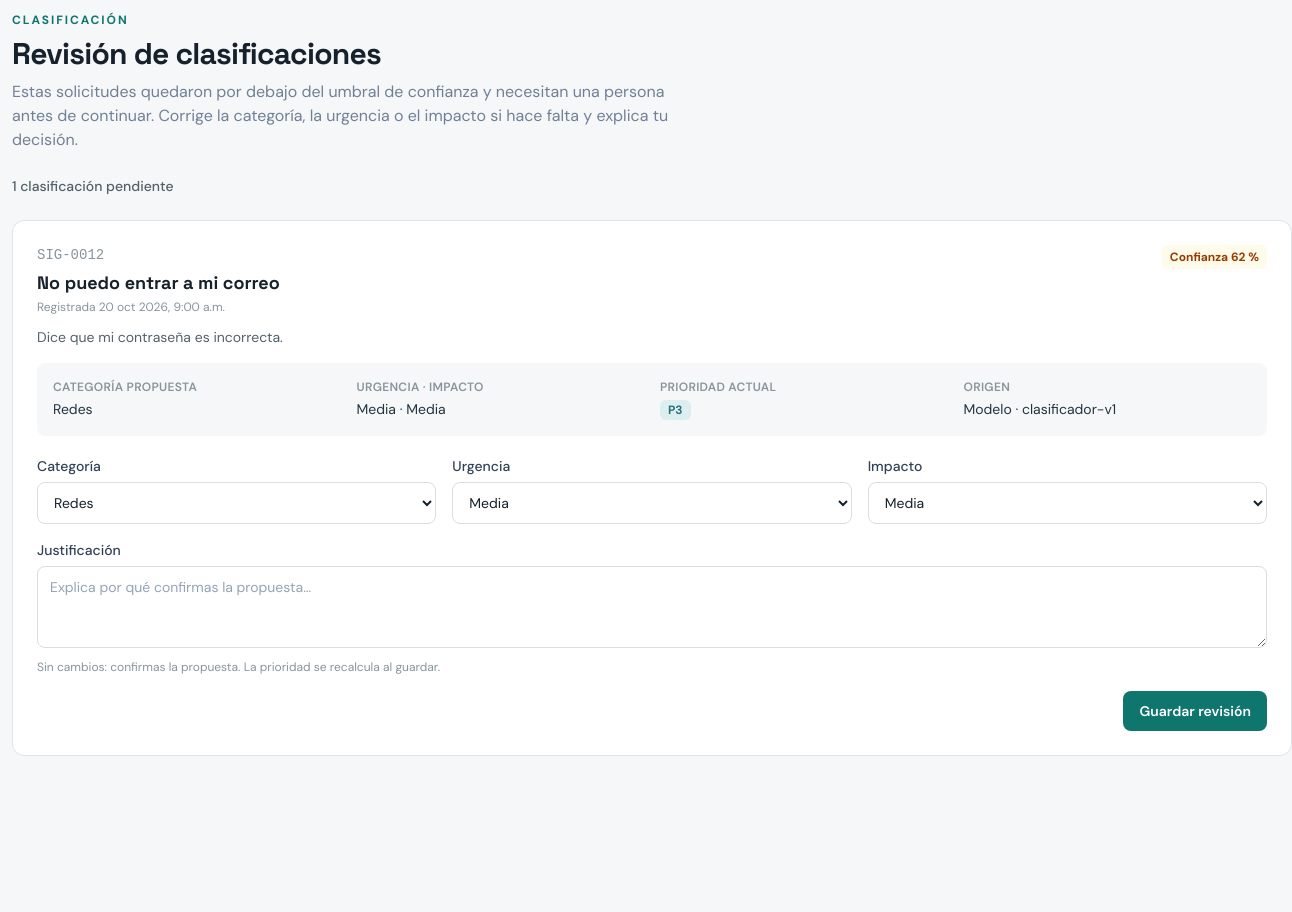
RevisionPage: revisión de clasificaciones (S4-15, HU-02.2) › guarda la corrección con su justificación y saca la solicitud de la cola
The width and height of the screenshot is (1292, 912).
Expected: the text "SIG-0012" is shown, 37,247 -> 104,263
Select "Cuentas y accesos" in the dropdown labelled "Categoría". click: point(237, 503)
box: 37,482 -> 436,524
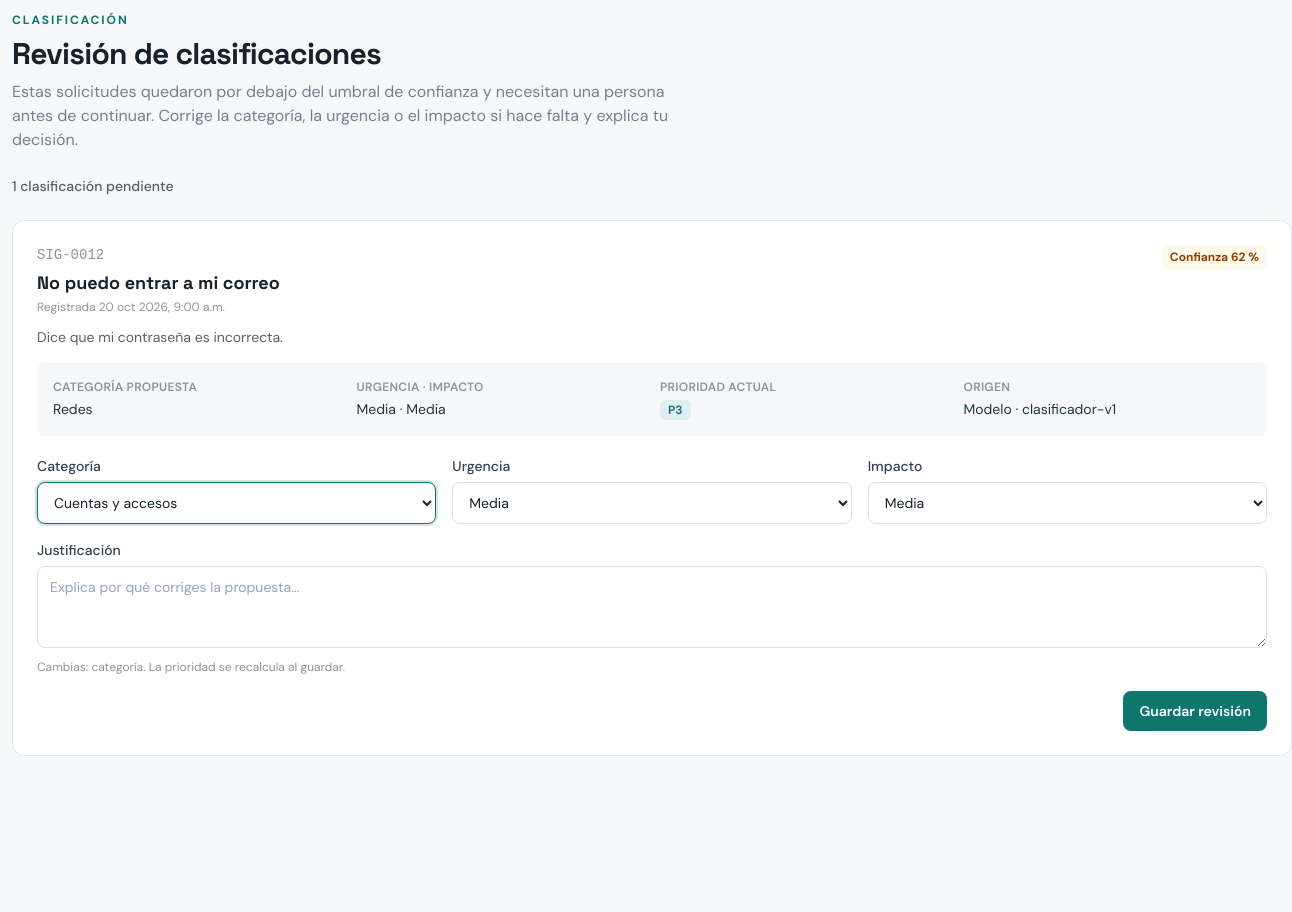
Select "Alta" in the dropdown labelled "Urgencia". click: point(652, 503)
box: 452,482 -> 852,524
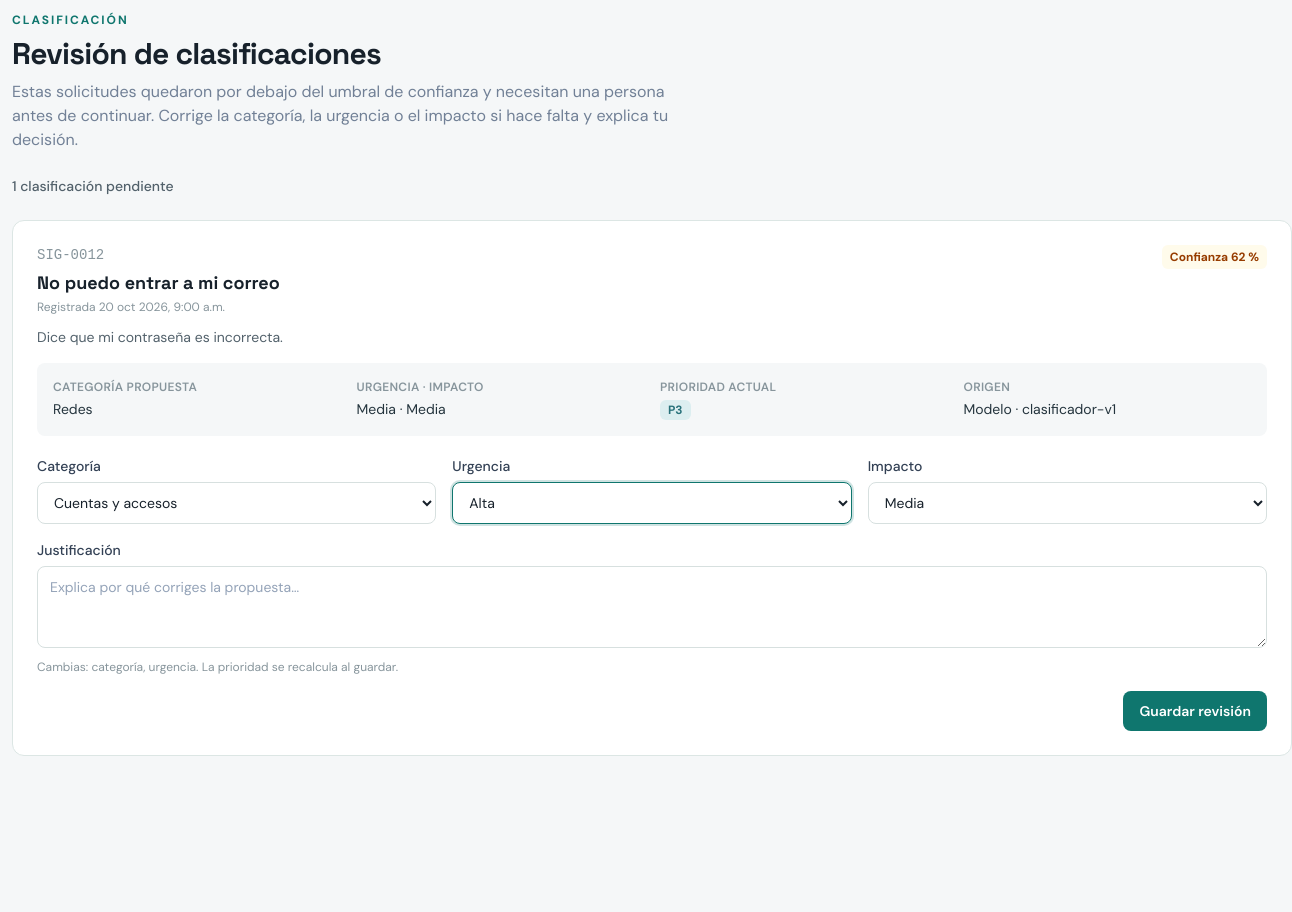
Type "  Es un problema de cuenta, no de red.  " into the text box labelled "Justificación". click: point(652, 607)
box: 37,566 -> 1267,648
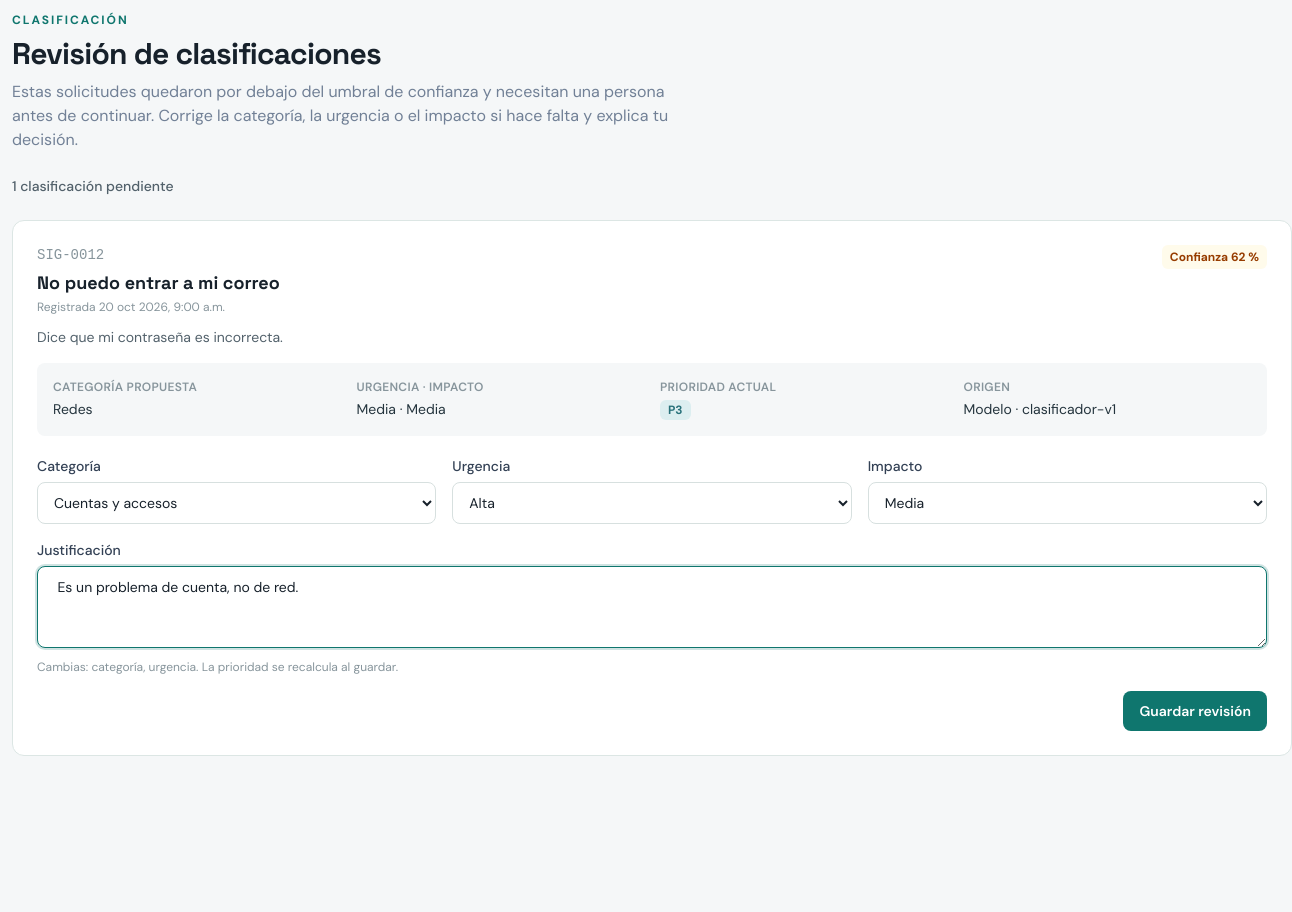
Click the button "Guardar revisión". click: point(1195, 711)
box: 1123,691 -> 1267,731
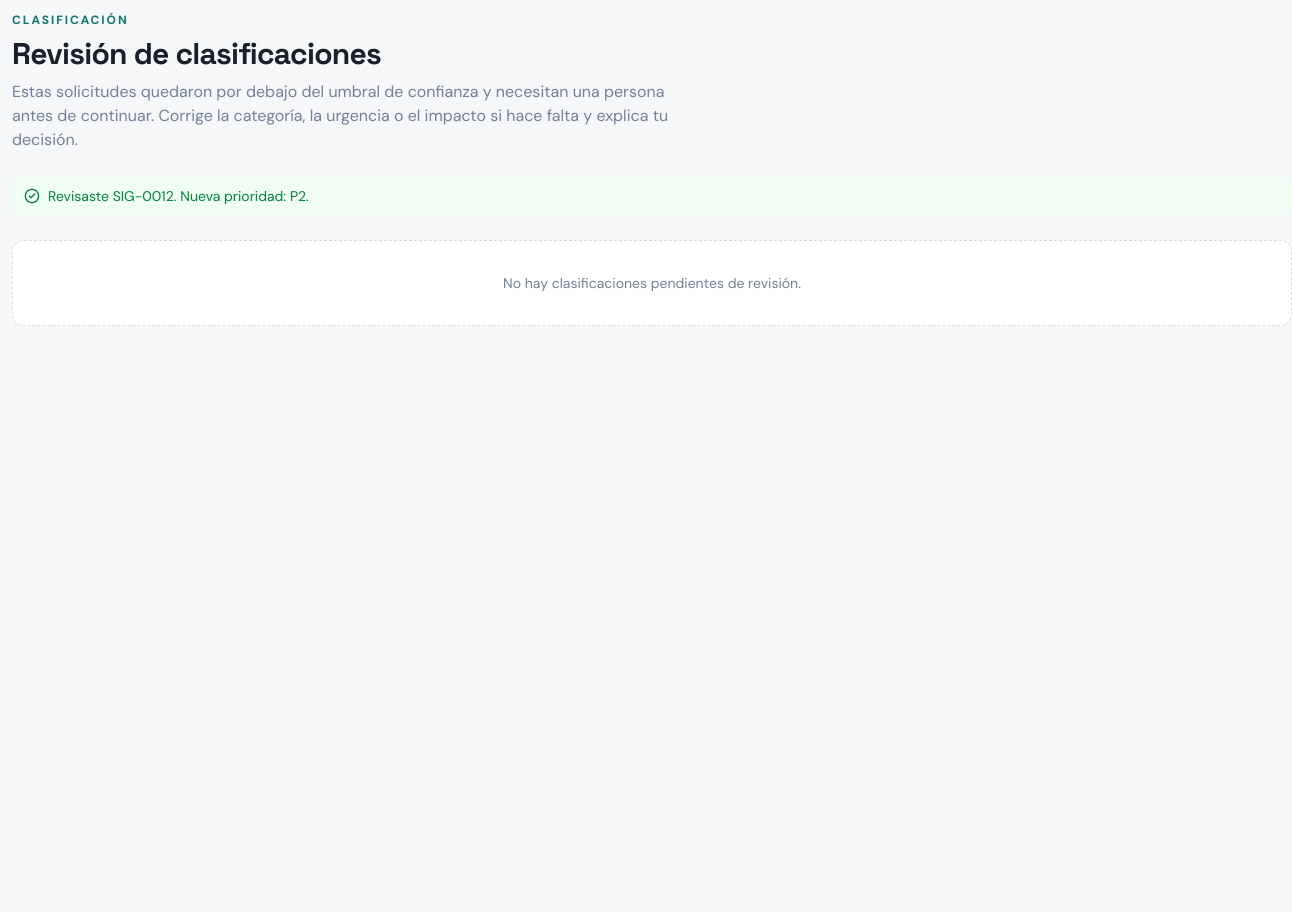
Result: the text "Revisaste SIG-0012. Nueva prioridad: P2." is shown at 48,186 -> 309,206
Result: the text "No hay clasificaciones pendientes de revisión." is shown at 12,240 -> 1291,326
